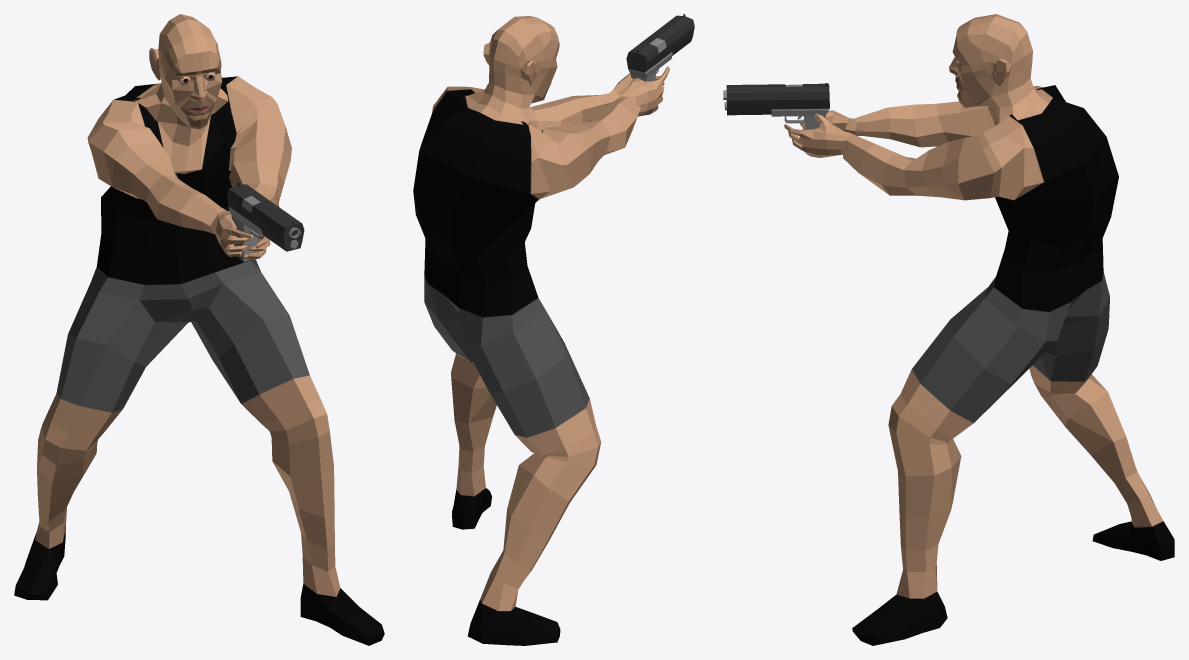
Rendered from PlayerShoot(24).obj.
3 views of the same model, side by side, from view 1: azimuth 30°, elevation 25°; view 2: azimuth 150°, elevation 25°; view 3: azimuth 270°, elevation 25° (orthographic). The views are drawn at different scales.
Parts seen in each view (by area): view 1: Plane002, Box003; view 2: Plane002, Box003; view 3: Plane002, Box003.
Part boxes in pixels (left/top/right/bottom): Plane002: left=14, top=14, right=384, bottom=645; Box003: left=227, top=182, right=304, bottom=261; Plane002: left=413, top=16, right=669, bottom=645; Box003: left=626, top=14, right=694, bottom=81; Plane002: left=784, top=14, right=1174, bottom=645; Box003: left=723, top=83, right=829, bottom=152.
Bounding box in the file's own units: 714 × 1663 × 1199.
